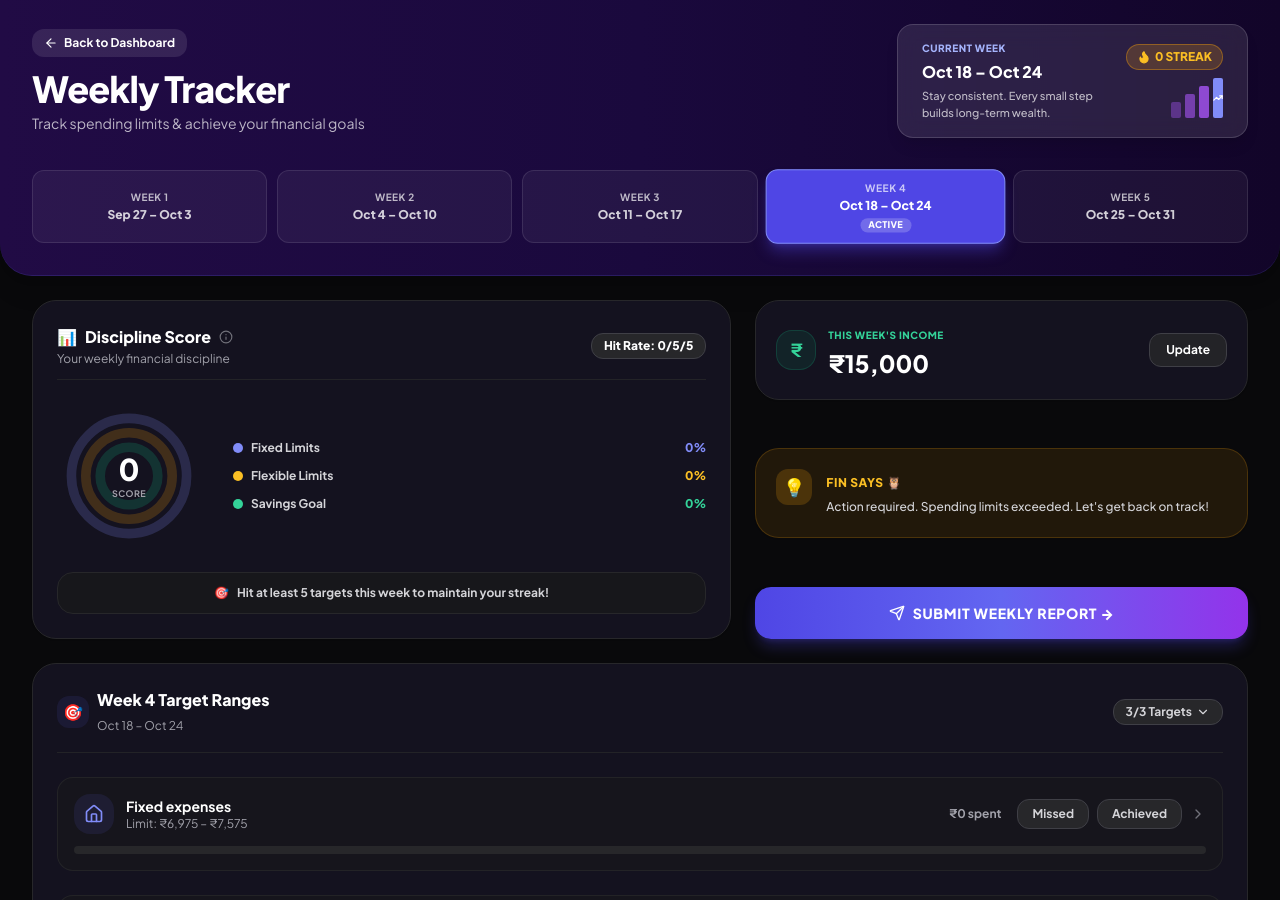
Test: Task 9: WeeklyPage Component & Flow Tests › blocks submission and shows toast if any target is unselected
The width and height of the screenshot is (1280, 900).
Expected: the text "Submit Weekly Report →" is shown, x1=913 y1=602 x2=1115 y2=622
Click submit without marking all 3 decisions
Click the button "Submit Weekly Report →". click: (1002, 612)
box: x1=755 y1=586 x2=1248 y2=638
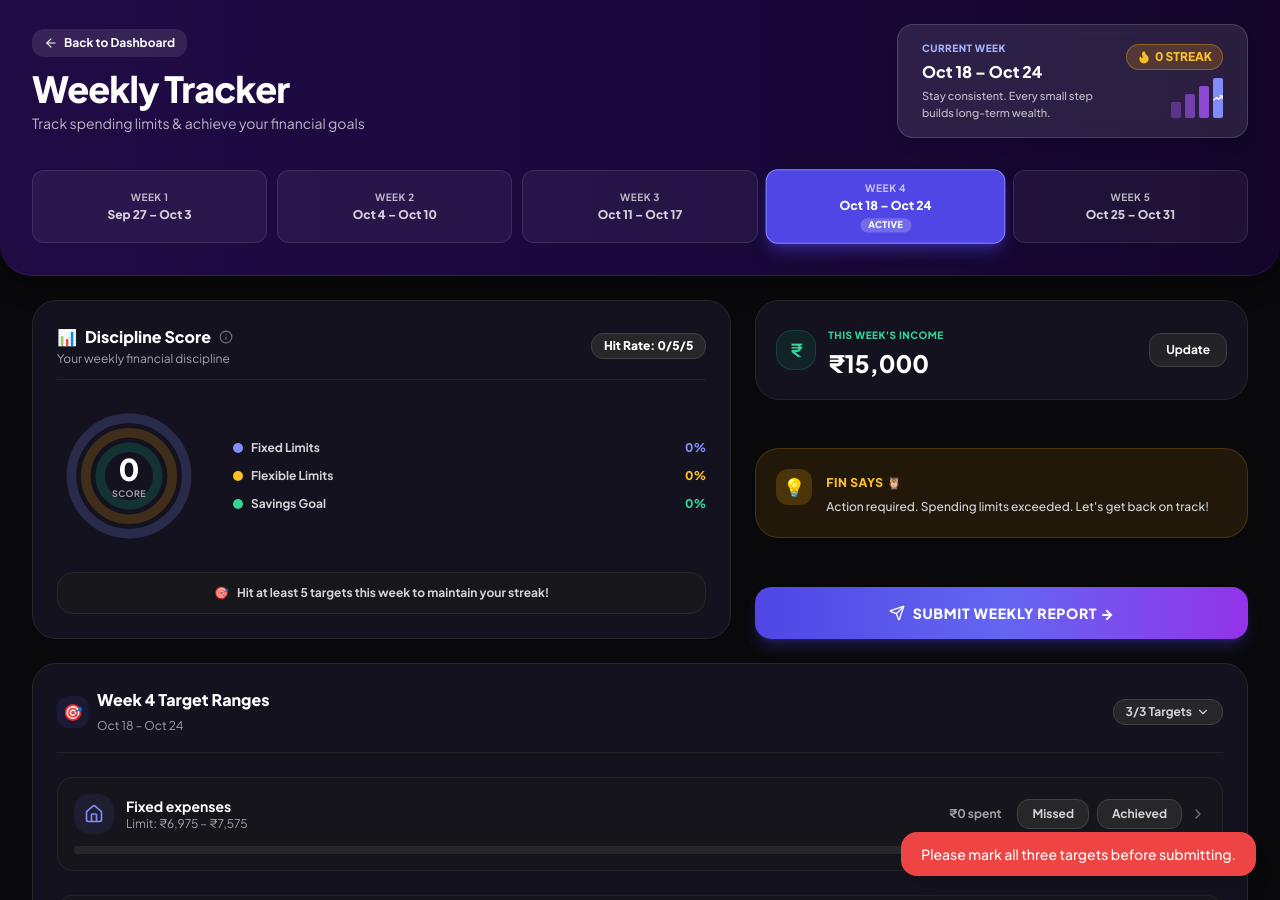
Expected: the text "Please mark all three targets before submitting." is shown, x1=921 y1=844 x2=1236 y2=864
